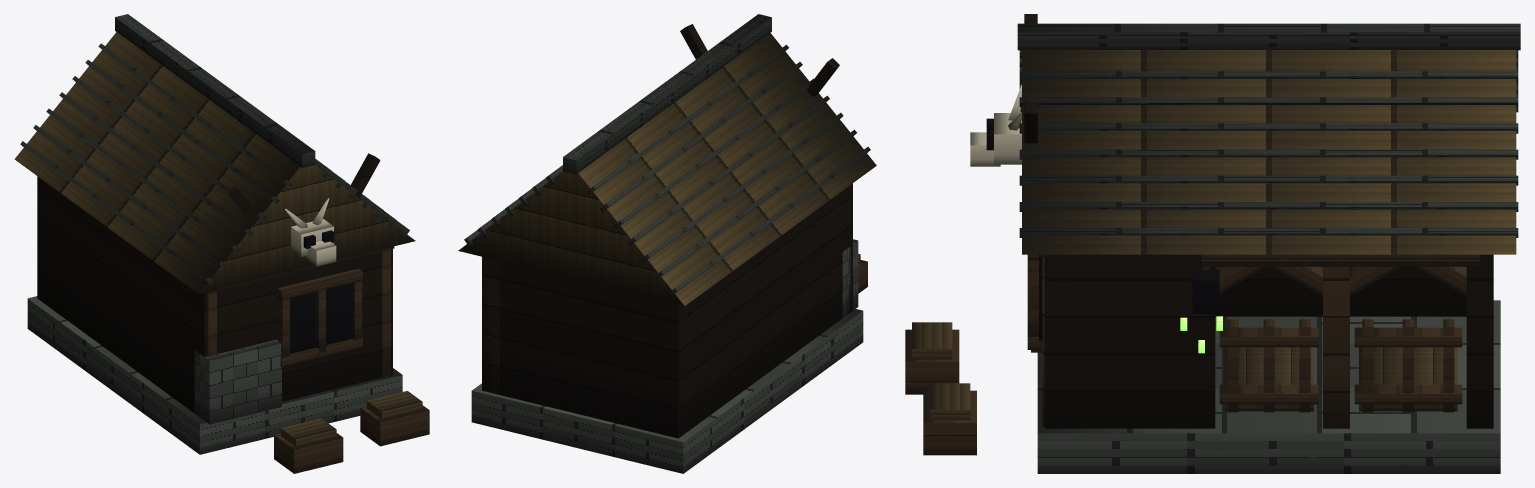
The model's file is stable.glb.
3 renders of one model, left to right at view 1: azimuth 30°, elevation 25°; view 2: azimuth 150°, elevation 25°; view 3: azimuth 270°, elevation 25°, orthographic. The views are drawn at different scales.
Visible parts, largest first — view 1: stable; view 2: stable; view 3: stable.
Boxes of the visible parts, <box> form: stable: <box>14,14,429,473</box>; stable: <box>458,14,876,473</box>; stable: <box>905,14,1520,473</box>.
Bounding box in the file's own units: 1.5 × 1.87 × 2.74.
1 material, 1 textured.
